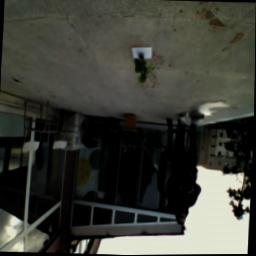herb: (134, 55, 154, 85)
